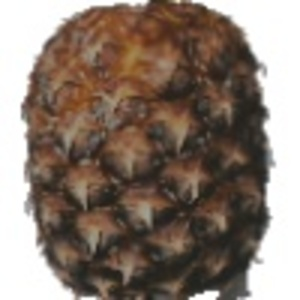abacaxi: (17, 2, 281, 292)
